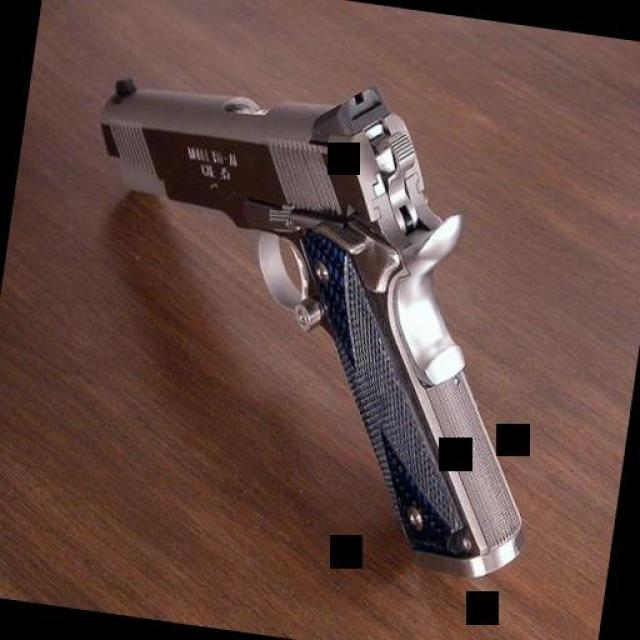gun: (39, 45, 581, 593)
